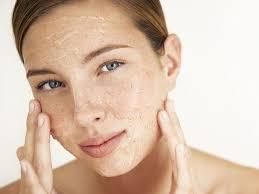Dry-Skin: (42, 19, 83, 56), (50, 111, 77, 144)
